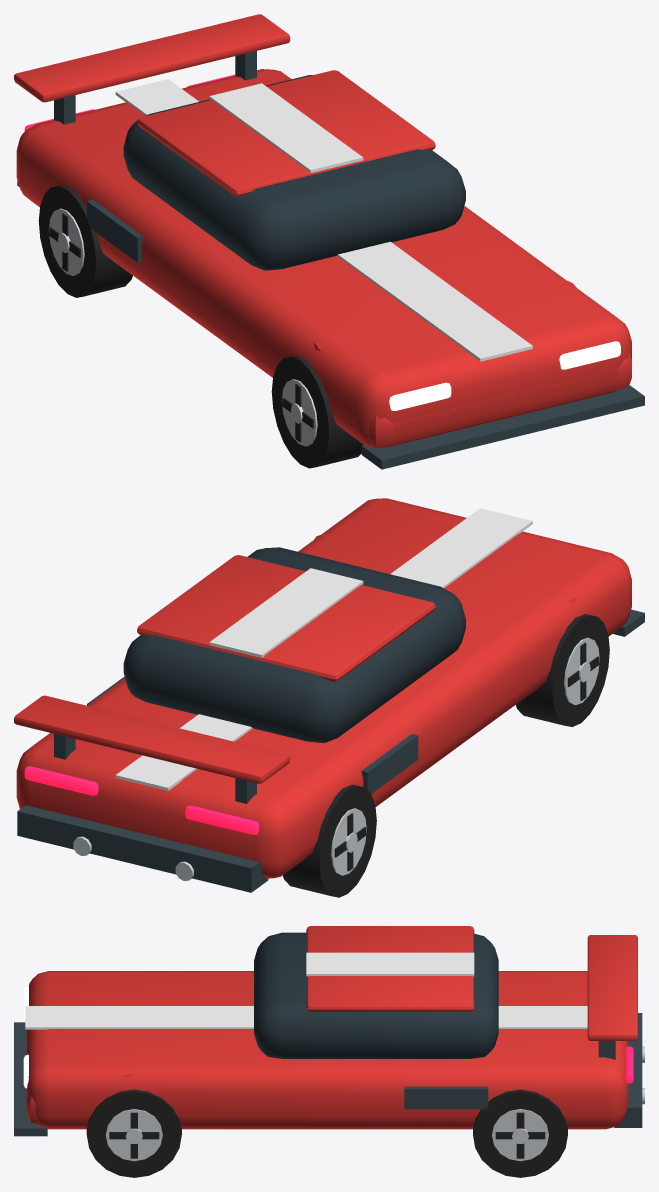
File: streets_sports.glb
3 renders of one model, top to bottom at view 1: azimuth 30°, elevation 25°; view 2: azimuth 150°, elevation 25°; view 3: azimuth 270°, elevation 25°, orthographic. The views are drawn at different scales.
Visible parts, largest first — view 1: Sports_body, Wheel_FR, Wheel_RR; view 2: Sports_body, Wheel_RR, Wheel_FR; view 3: Sports_body, Wheel_FL, Wheel_RL.
Part boxes in pixels (x1,y1,x2,y2): Sports_body: [14, 14, 644, 469]; Wheel_FR: [271, 355, 363, 468]; Wheel_RR: [38, 185, 132, 297]; Sports_body: [14, 498, 644, 892]; Wheel_RR: [282, 784, 376, 897]; Wheel_FR: [516, 614, 609, 726]; Sports_body: [14, 926, 644, 1136]; Wheel_FL: [86, 1089, 181, 1177]; Wheel_RL: [473, 1089, 567, 1177].
Bounding box in the file's own units: 1.98 × 1.25 × 4.51.
